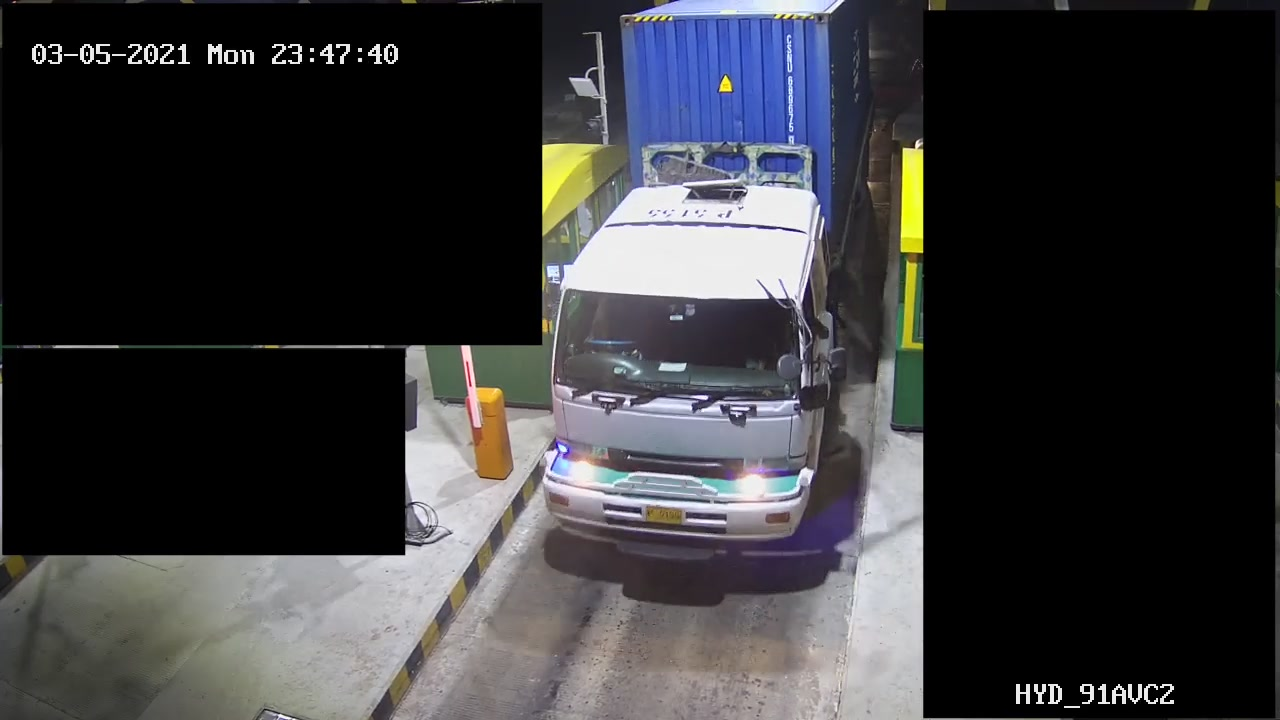F6: (536, 1, 894, 592)
